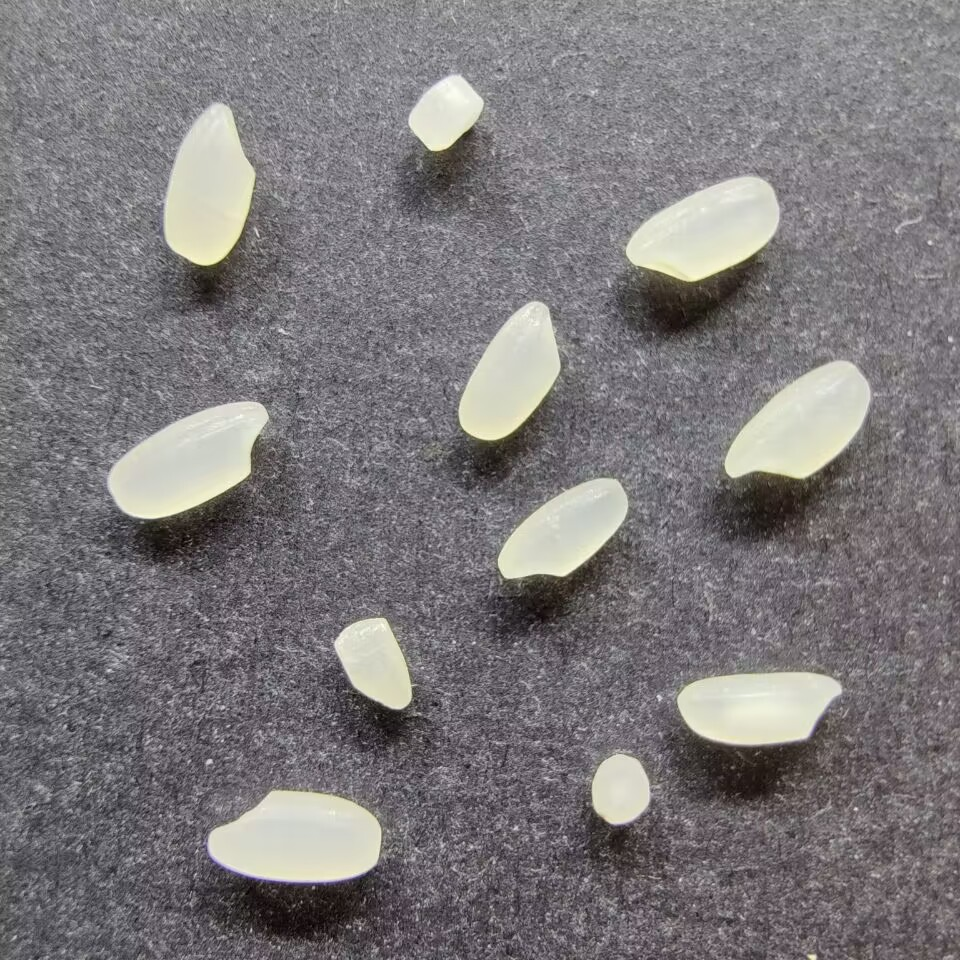broken: (333, 614, 414, 712), (405, 72, 485, 154), (588, 752, 652, 826)
rice: (104, 399, 270, 520), (721, 358, 871, 482), (623, 175, 782, 284), (205, 788, 383, 885), (160, 100, 257, 267), (456, 300, 562, 441), (494, 475, 629, 581), (675, 670, 842, 747)
